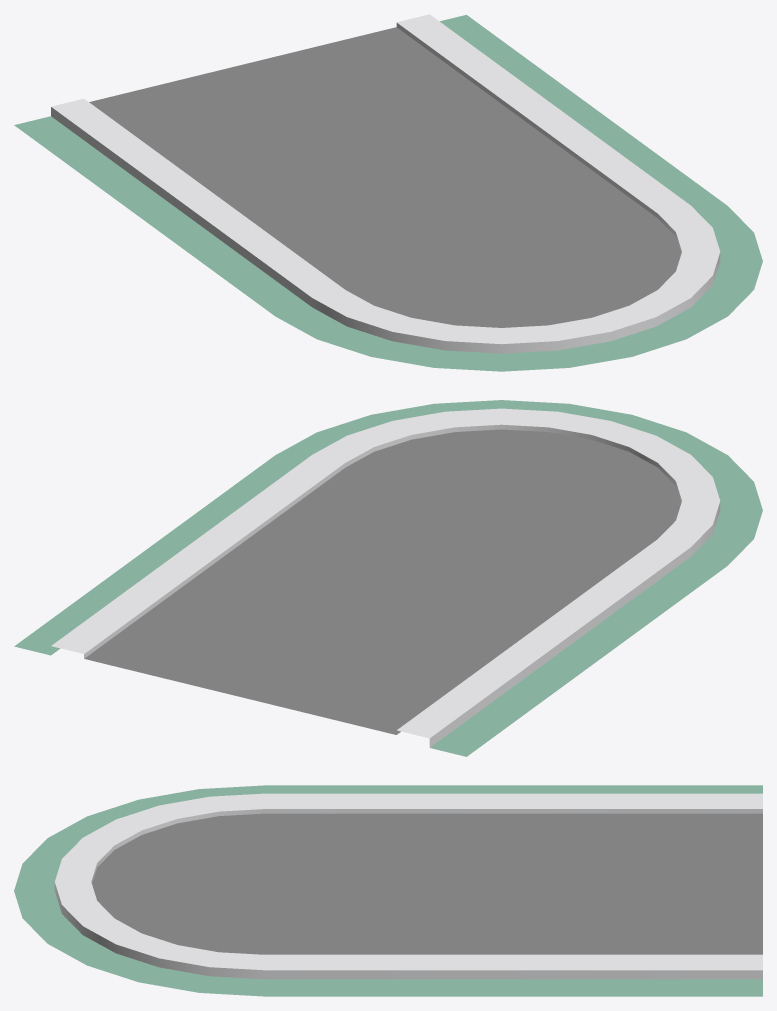
File: roadEnd.gltf
The picture shows the model from 3 angles, top to bottom: view 1: azimuth 30°, elevation 25°; view 2: azimuth 150°, elevation 25°; view 3: azimuth 270°, elevation 25°; orthographic projection. The views are drawn at different scales.
Visible parts, largest first — view 1: roadEnd; view 2: roadEnd; view 3: roadEnd.
Boxes of the visible parts, box(x1,y1,x2,y2) form: roadEnd: box(14, 14, 762, 371); roadEnd: box(14, 400, 762, 756); roadEnd: box(14, 785, 762, 996).
Size of the model in its own units: 10 by 0.2 by 15.
